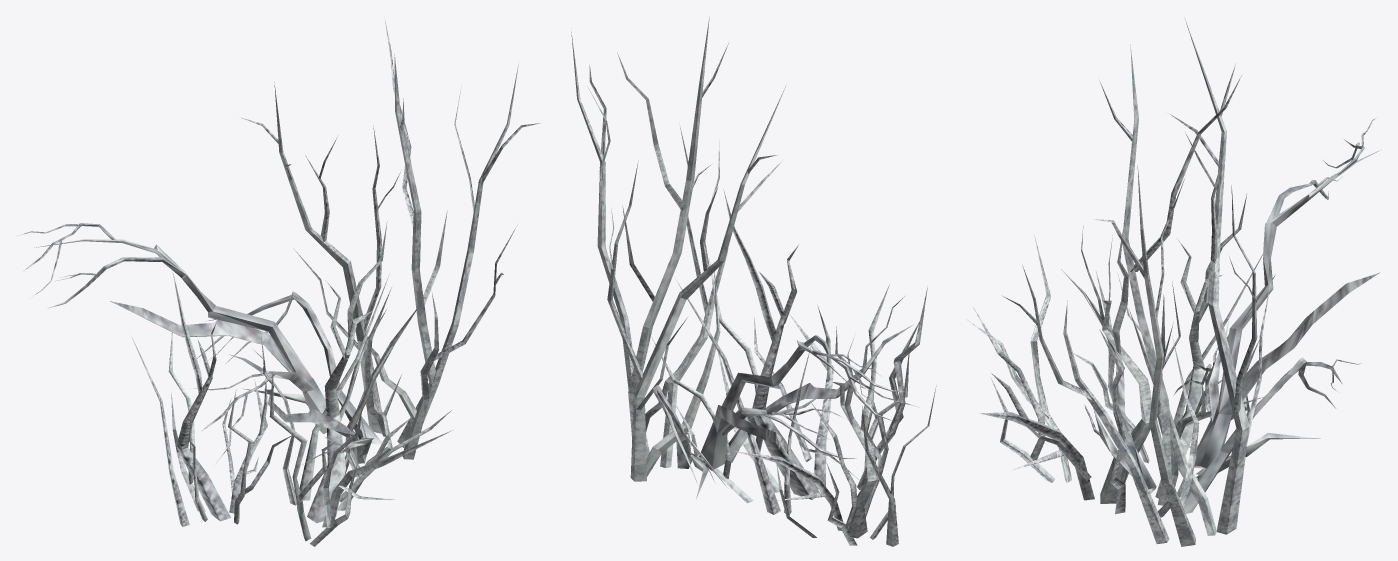
The model's file is S_Tree_White021_3.FBX.
3 renders of one model, left to right at view 1: azimuth 30°, elevation 25°; view 2: azimuth 150°, elevation 25°; view 3: azimuth 270°, elevation 25°, orthographic. The views are drawn at different scales.
Parts seen in each view (by area): view 1: S_Tree_White021_3; view 2: S_Tree_White021_3; view 3: S_Tree_White021_3.
Boxes of the visible parts, x1,y1,x2,y2 form: S_Tree_White021_3: (18,16,541,546); S_Tree_White021_3: (571,17,936,546); S_Tree_White021_3: (966,18,1381,546).
Size of the model in its own units: 797 by 809 by 609.
